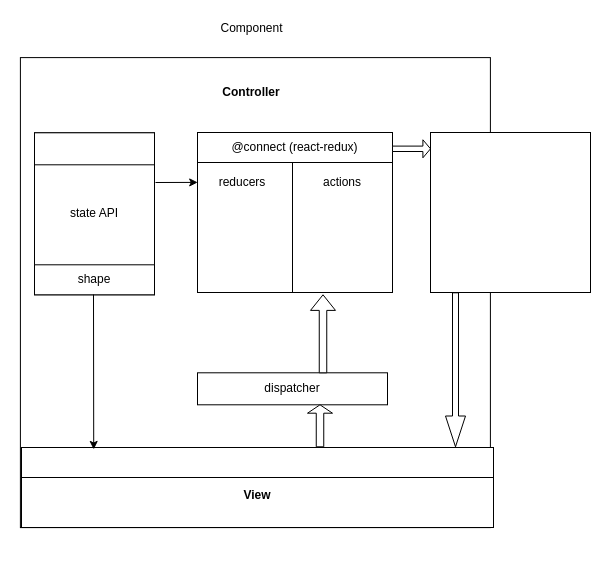
Image size: 608x564. Some labels were removed from this diagram. The shapes that lost their labels are listed below. From the top down, each one's box as (x1, y1, x2, y2) in pixels, then its label:
(34, 132, 154, 165): Model
(430, 132, 590, 292): Redux Store
(20, 446, 494, 478): @withController
